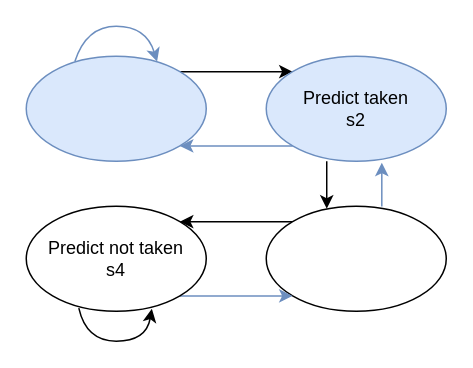
Some shapes in this 473 by 368 pixel diagram are drawn without their labels. The centre of each missing label's shape, as x and y in pixels:
"Predict not taken s3" goes at point 355,258.
"Predict taken s1" goes at point 115,108.
